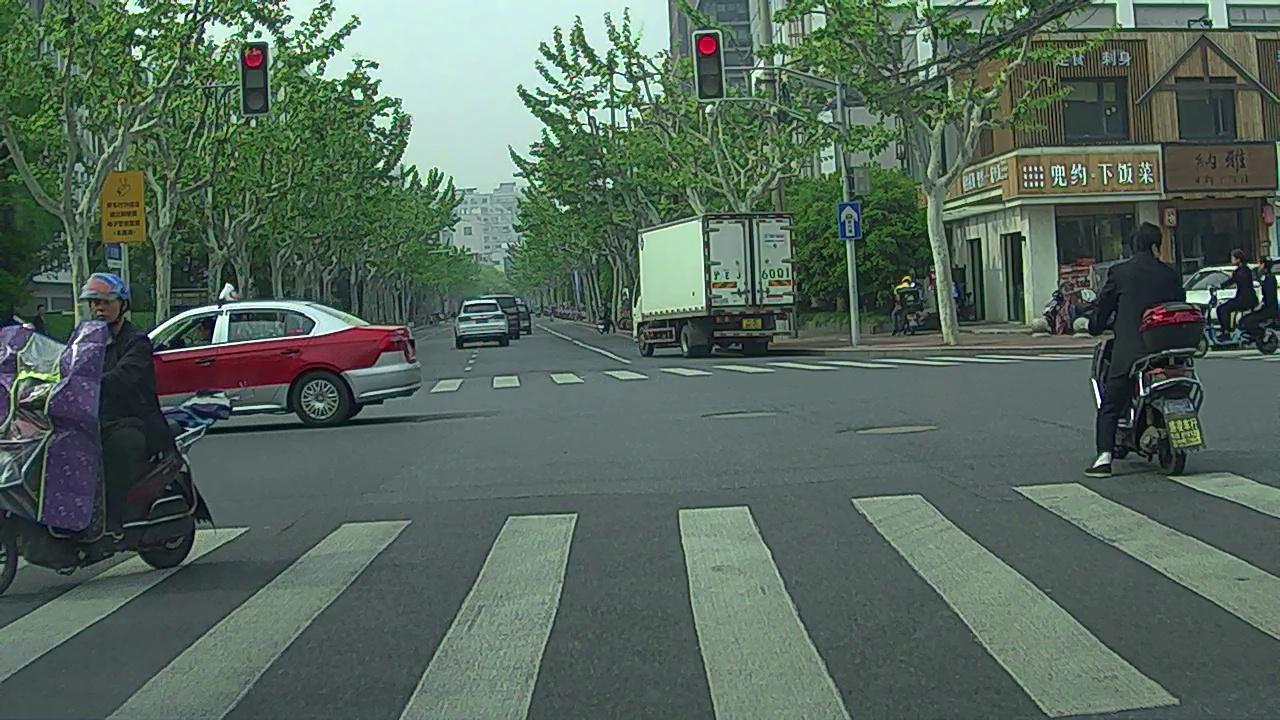traffic_light: (695, 35, 723, 100), (244, 45, 268, 111)
